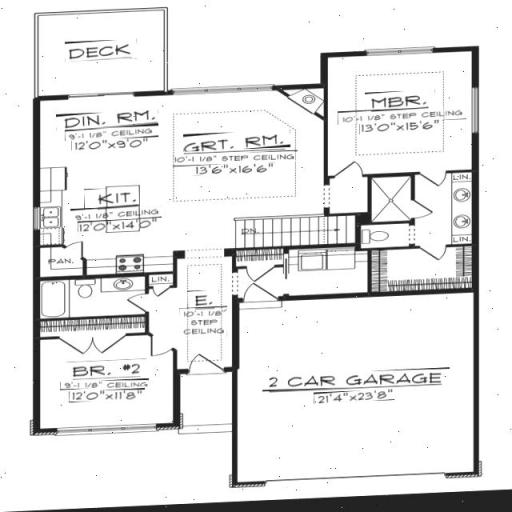Room: (45, 102, 176, 192)
bedroom: (323, 59, 469, 170), (46, 334, 172, 434)
garage: (242, 296, 476, 470)
hall: (179, 102, 329, 210)
kitchen: (38, 182, 190, 271)
